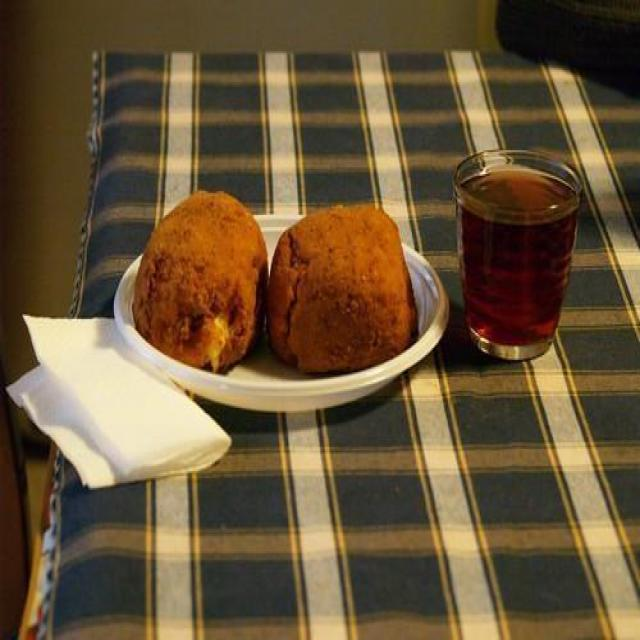glass-normal: (449, 149, 584, 365)
